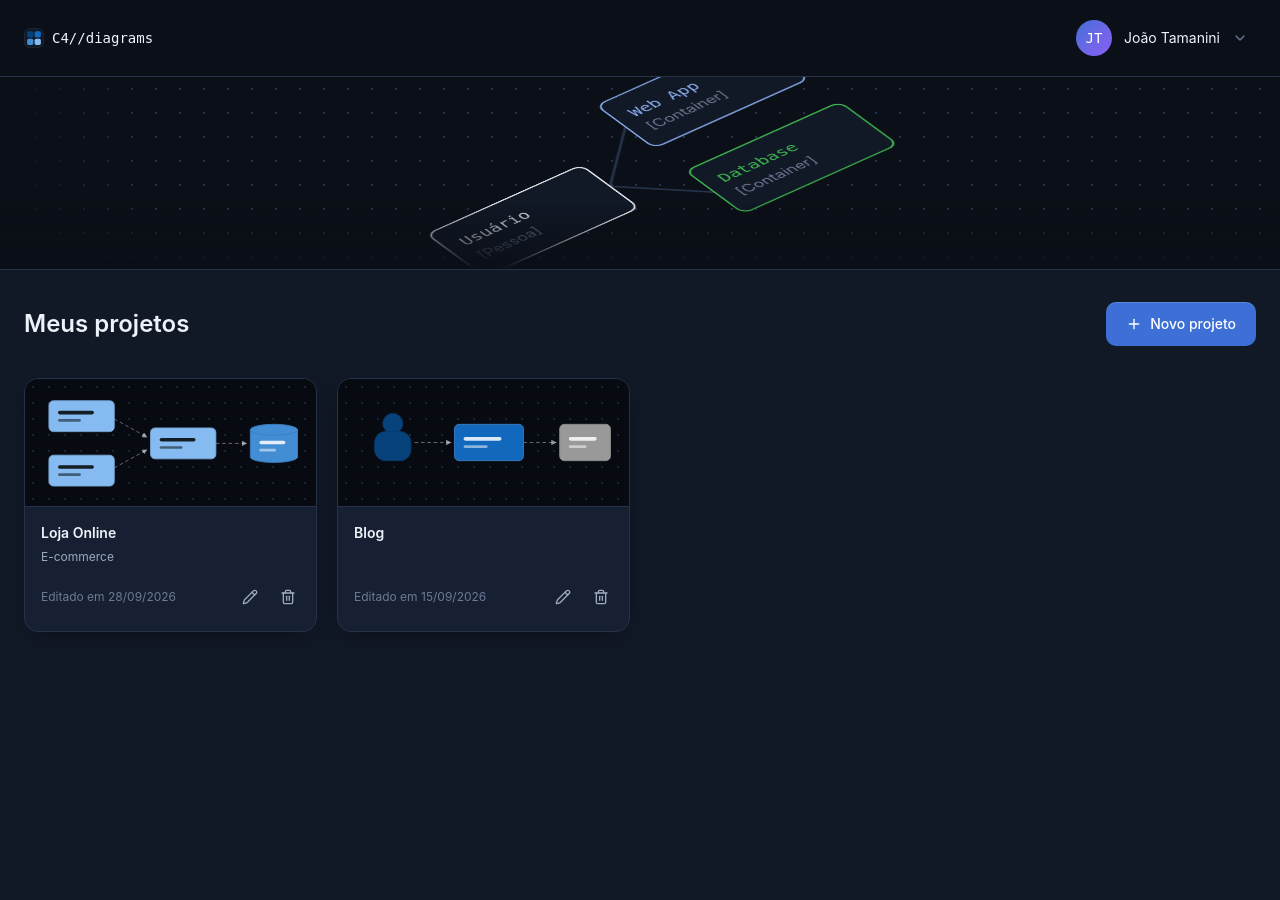
Dashboard › exclusão (RF06) › deve confirmar citando a exclusão permanente dos diagramas (RN05) e remover o card
This screenshot has width=1280, height=900.
Expected: the link "Loja Online" is shown, x1=41 y1=524 x2=116 y2=541
Click the button named "Excluir projeto Loja Online".
click(288, 596)  # box x1=270 y1=578 x2=306 y2=614
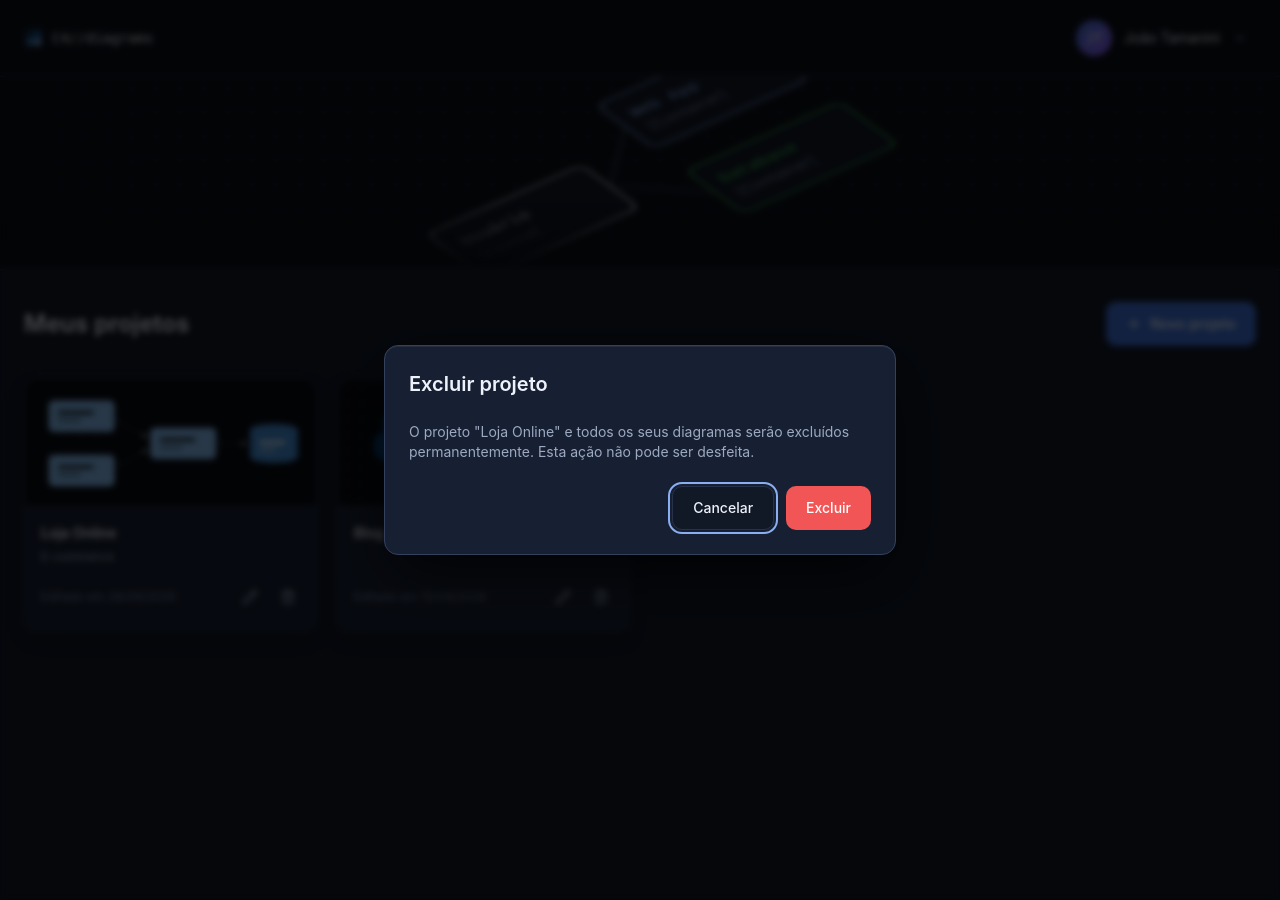
Expected: the dialog "Excluir projeto" shows "O projeto \"Loja Online\" e todos os seus diagramas serão excluídos permanentemente.", x1=409 y1=423 x2=849 y2=460
Click the button "Excluir".
click(829, 508)  # box x1=786 y1=486 x2=871 y2=530
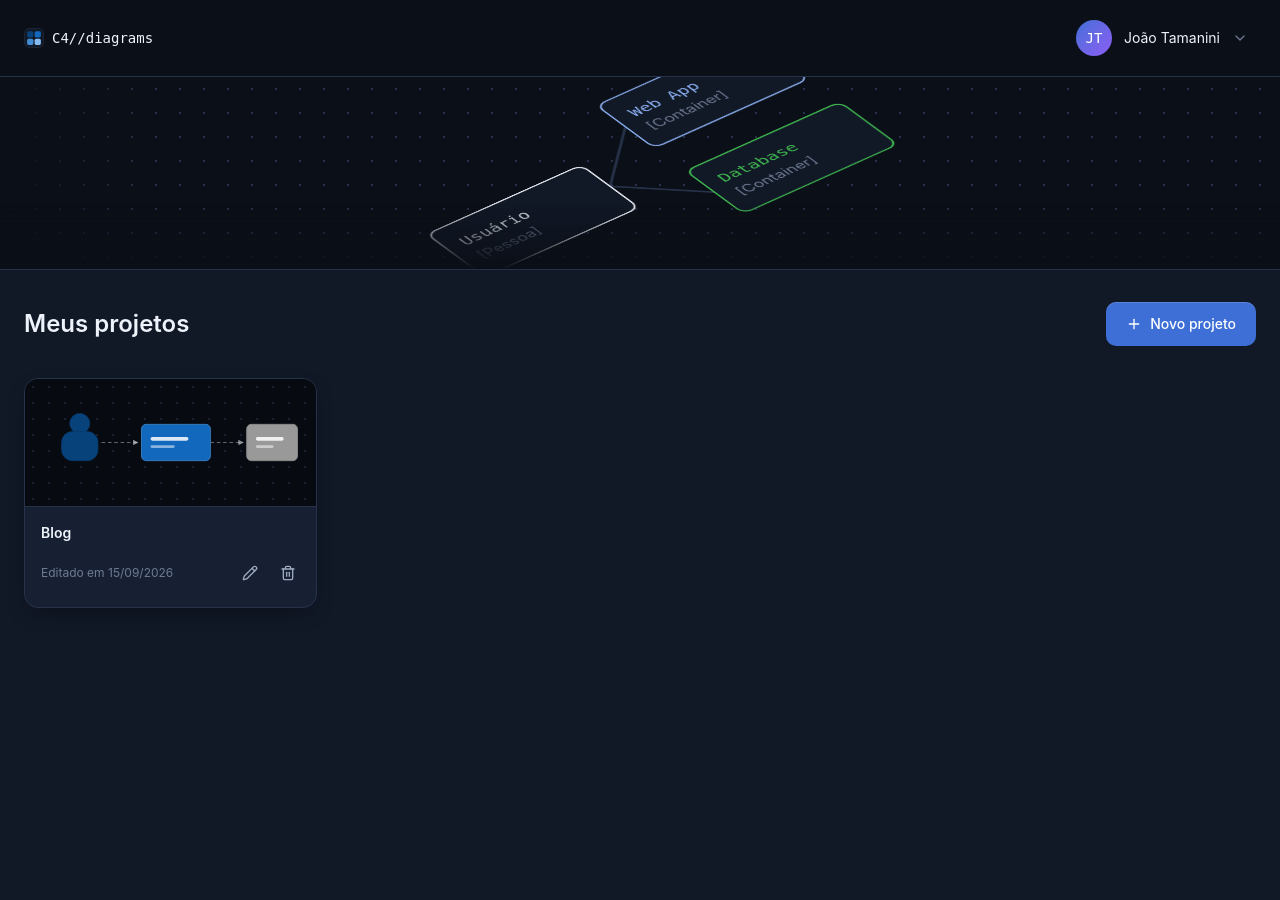
Expected: the link "Loja Online" is gone
